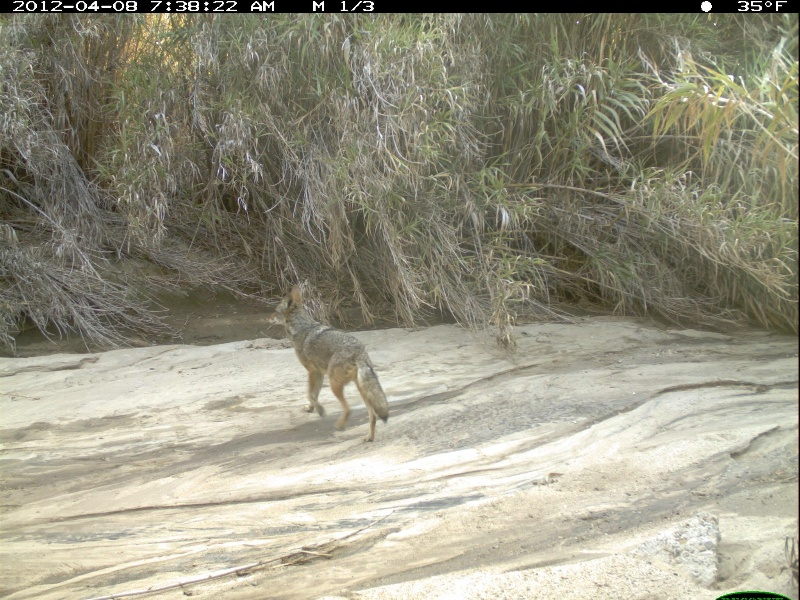coyote: (271, 283, 393, 448)
